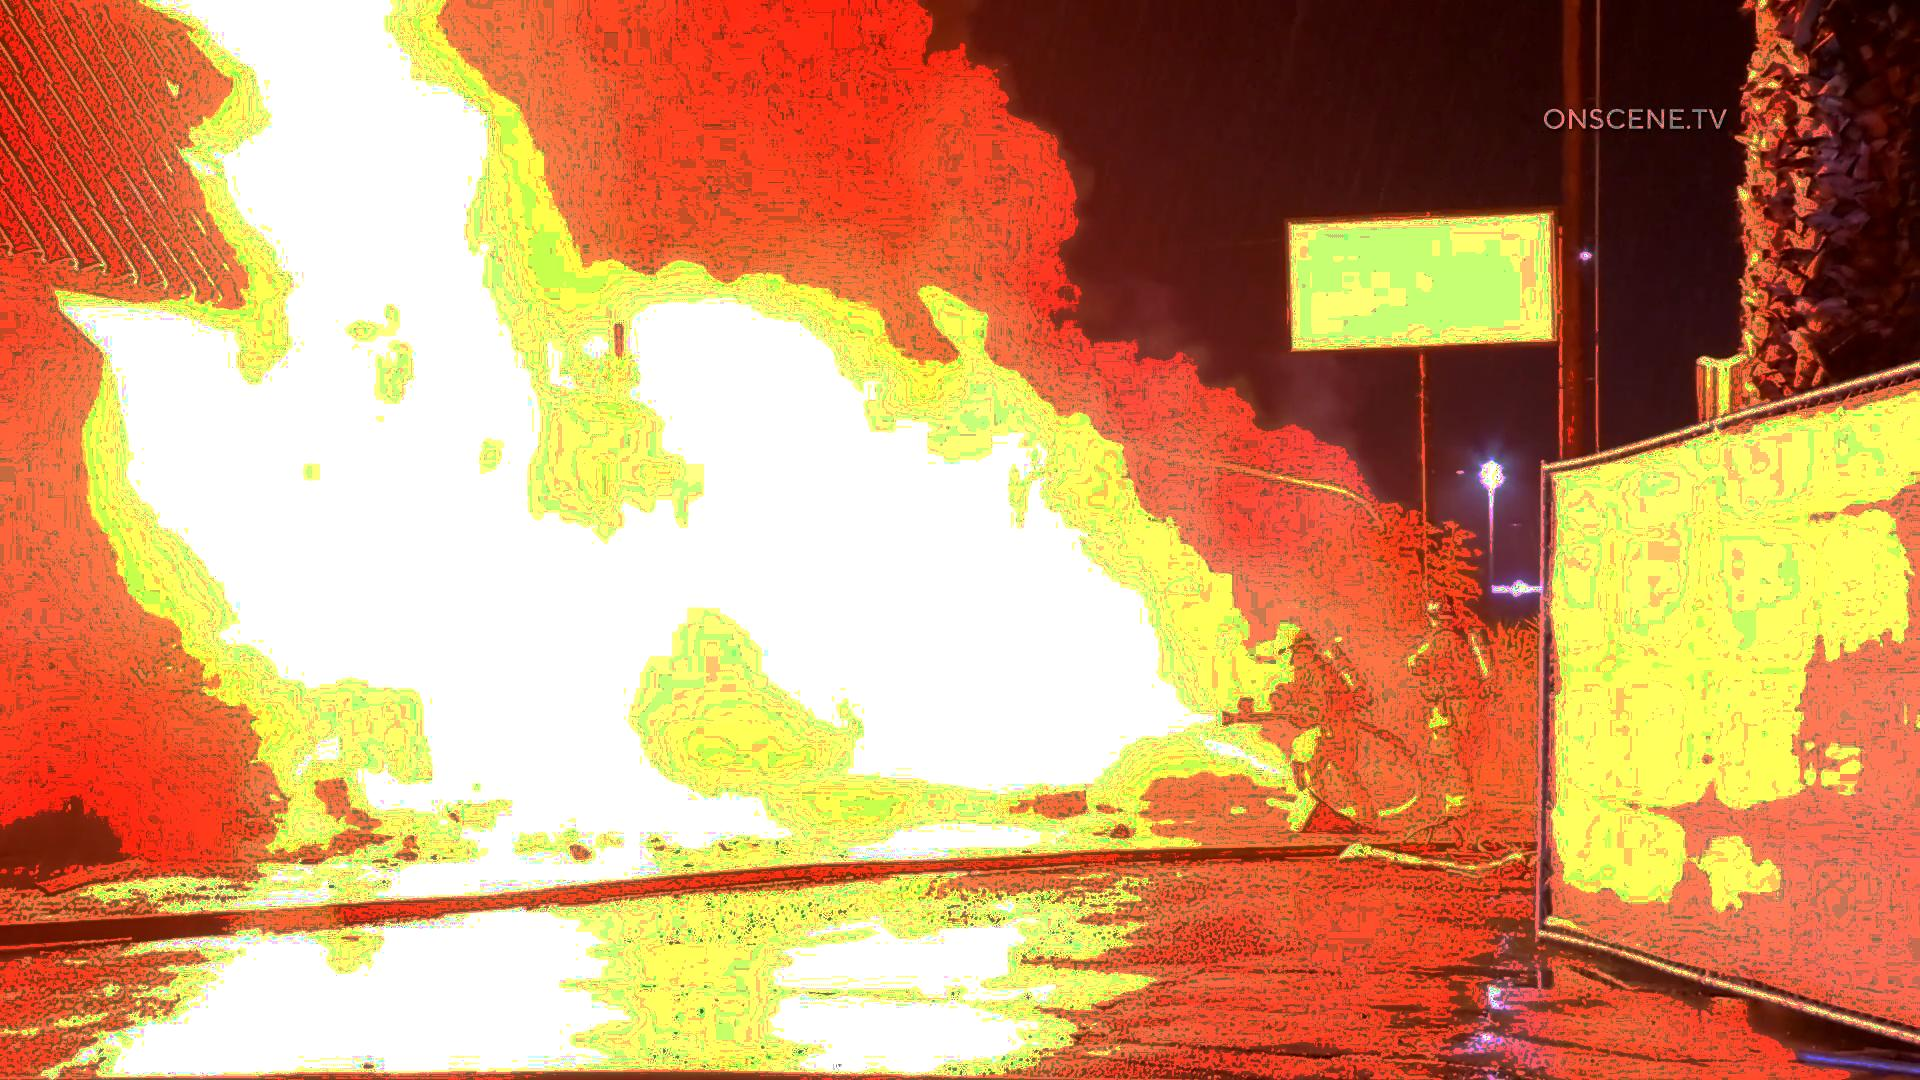fire: (105, 343, 1201, 819), (270, 47, 509, 856)
